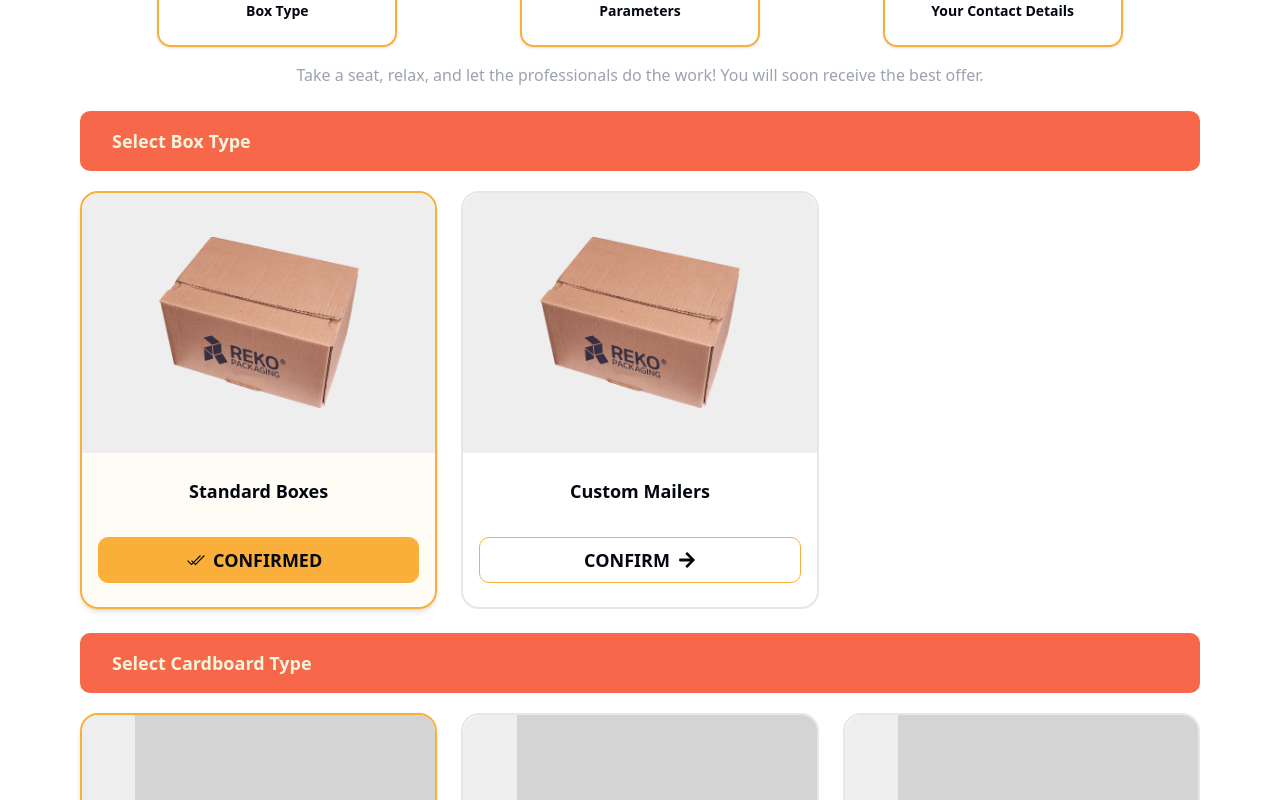
Scenario: Business page – API tipuri cutii › permite selectarea unui tip de cutie
The image size is (1280, 800).
(page scrolled)
Click the button "Custom Mailers CONFIRM" at {"x": 640, "y": 400}, box 461,191 -> 818,609
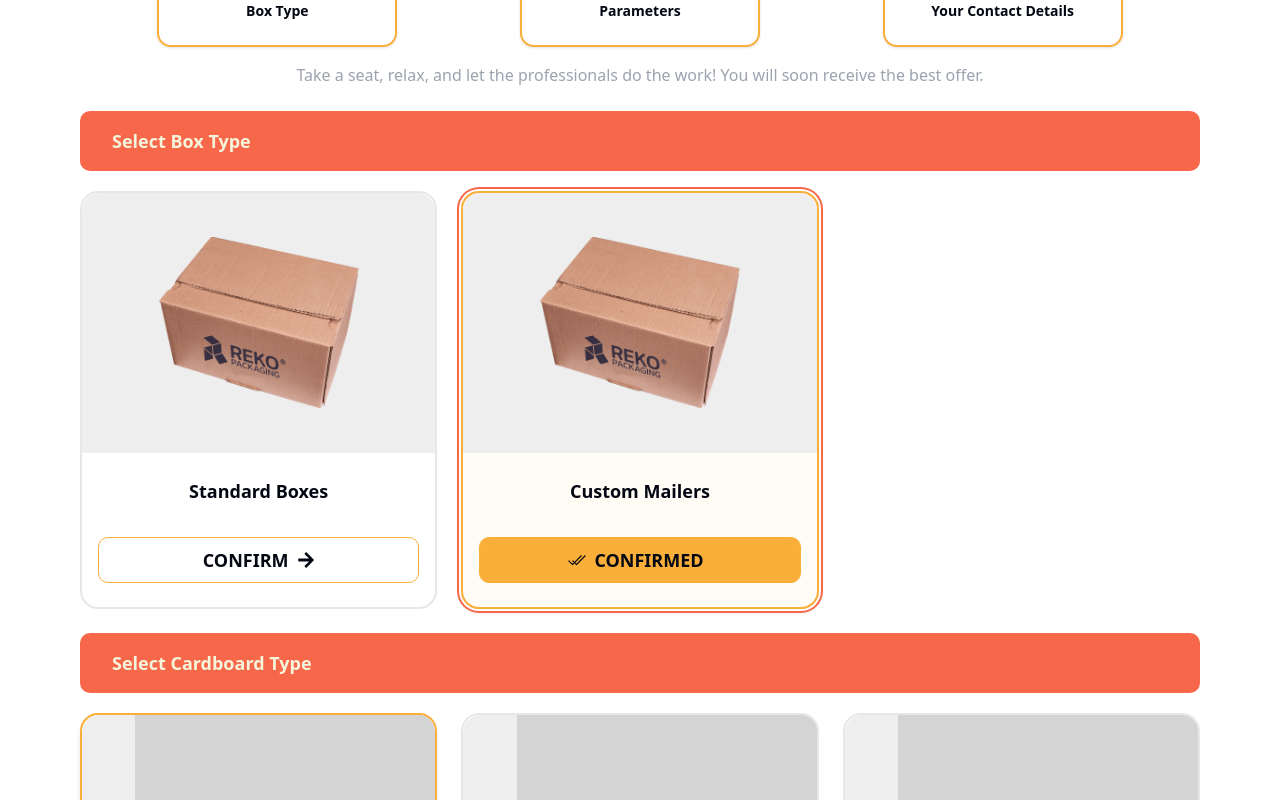
Check: the button "CONFIRMED" is shown, box 479,536 -> 801,582
